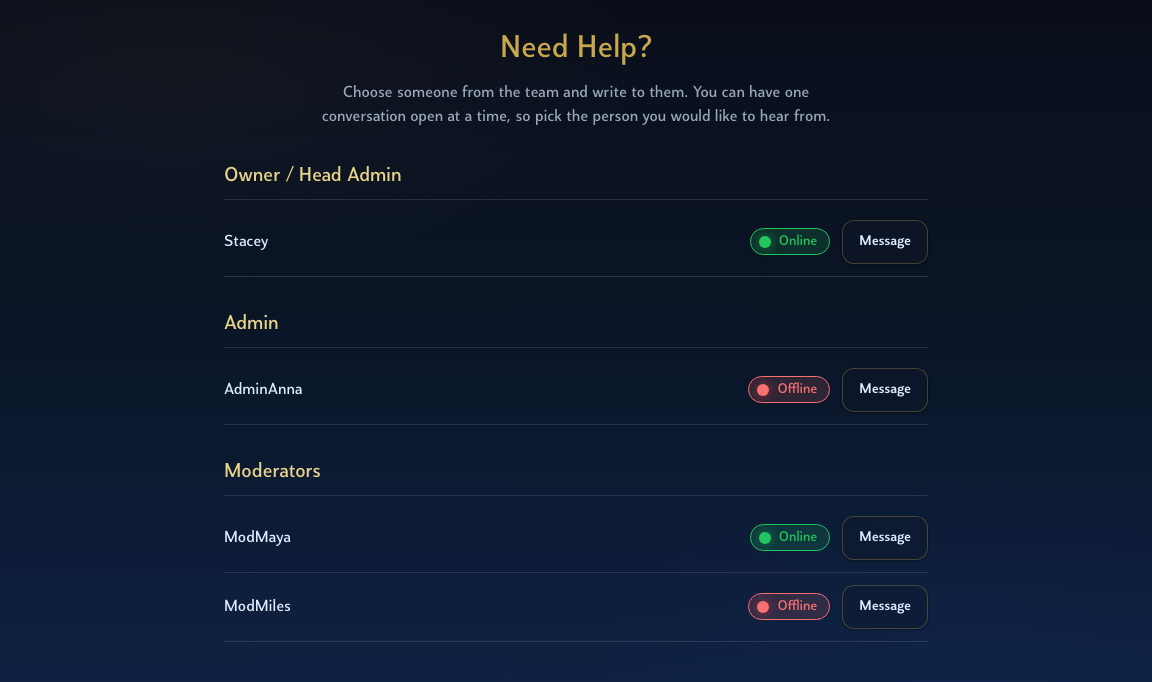
Test: NeedHelpPage › shows friendly copy for helpDuplicateContent and keeps what was typed
The image size is (1152, 682).
Click the button with aria-label "Message Stacey" at (885, 242), box [842, 220, 928, 264]
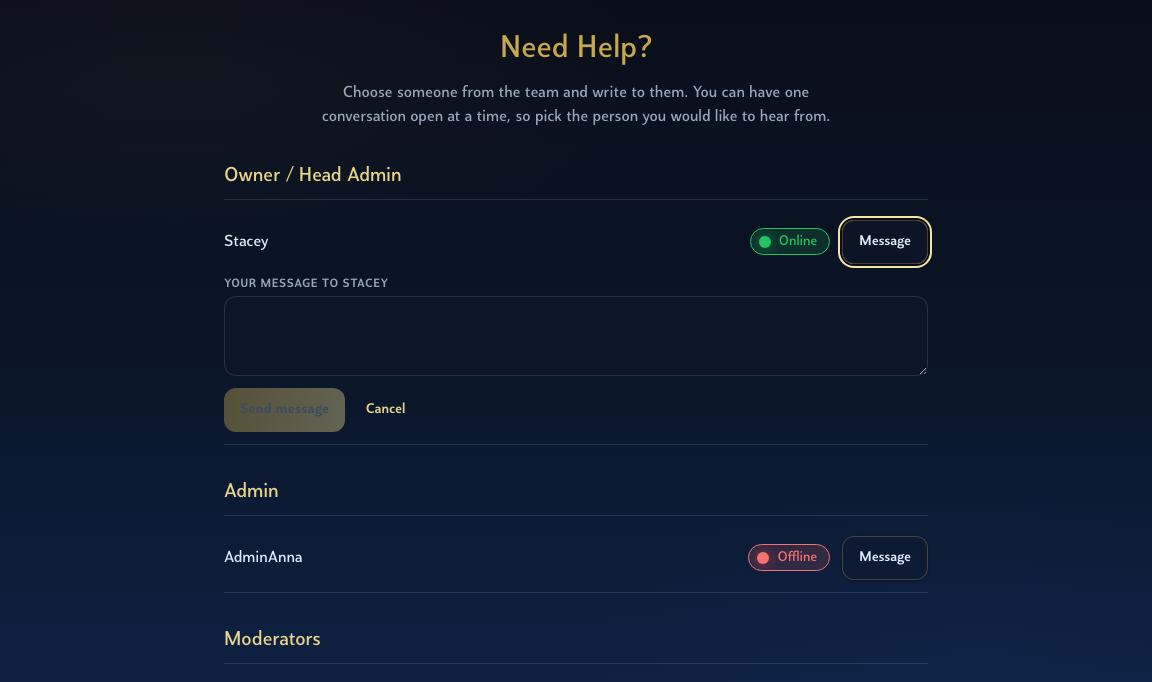
Type "hello there" into the text box labelled "Your message to Stacey" at (576, 336), box [224, 296, 928, 376]
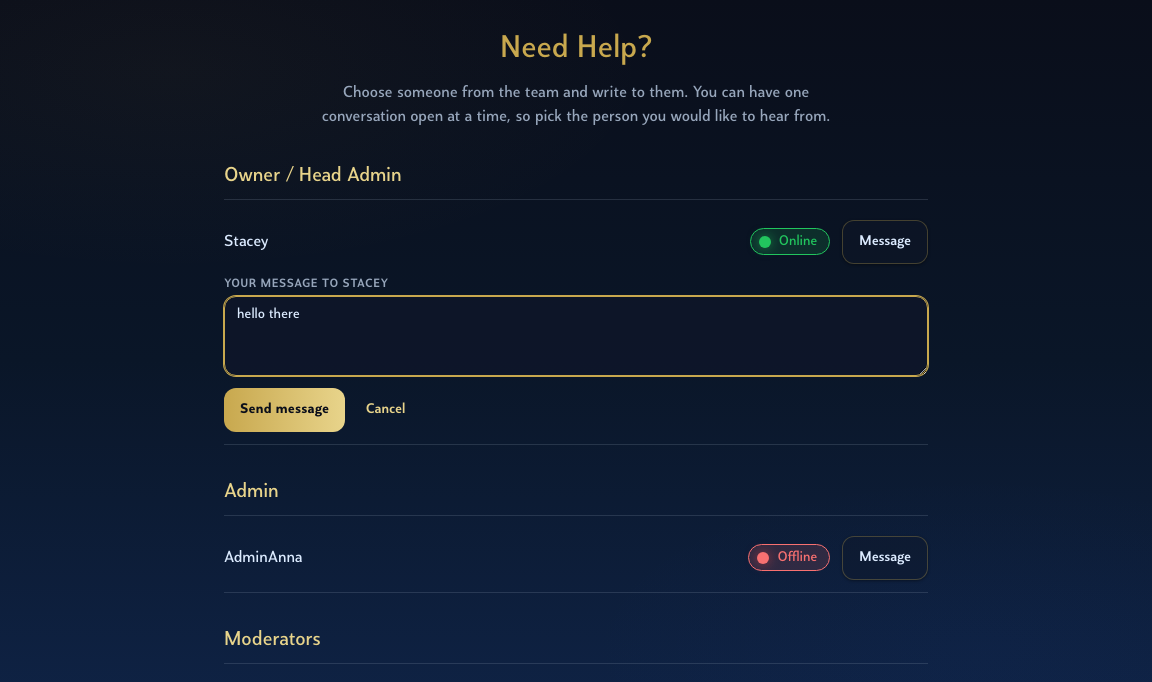
Click the button "Send message" at (285, 410), box [224, 388, 345, 432]
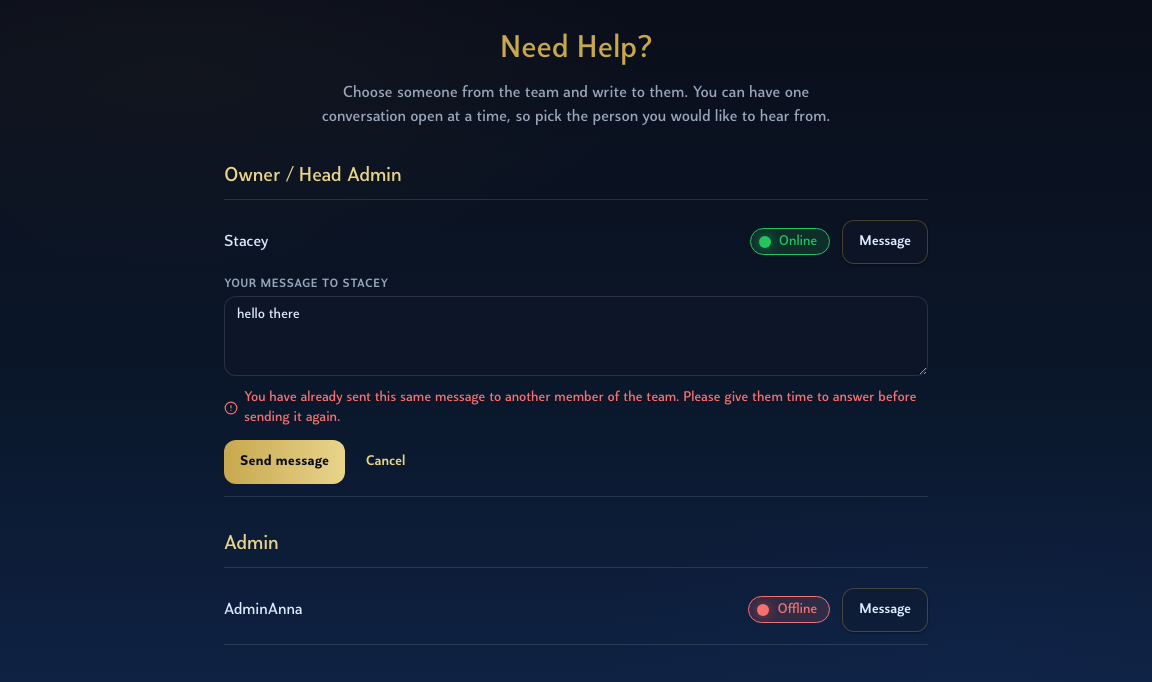
Expected: the message does not show "helpDuplicateContent", [224, 388, 928, 428]
Result: the message shows "already sent this same message" at [244, 390, 917, 425]
